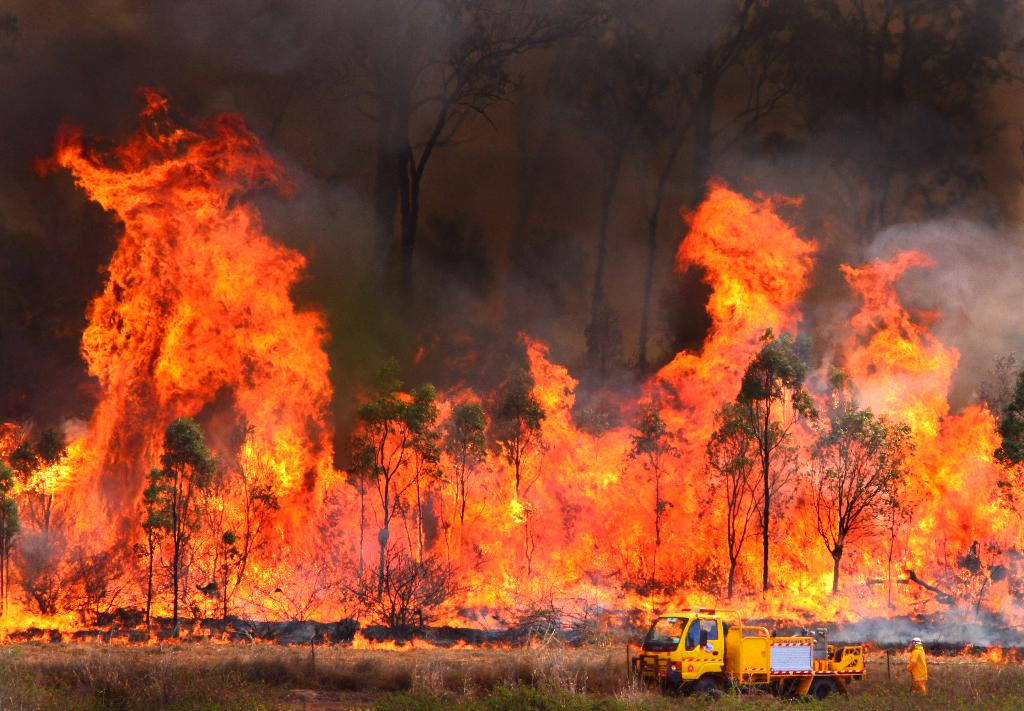Tree: (0, 0, 1023, 658)
